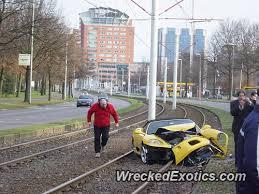bonnet-dent: (156, 123, 197, 141)
